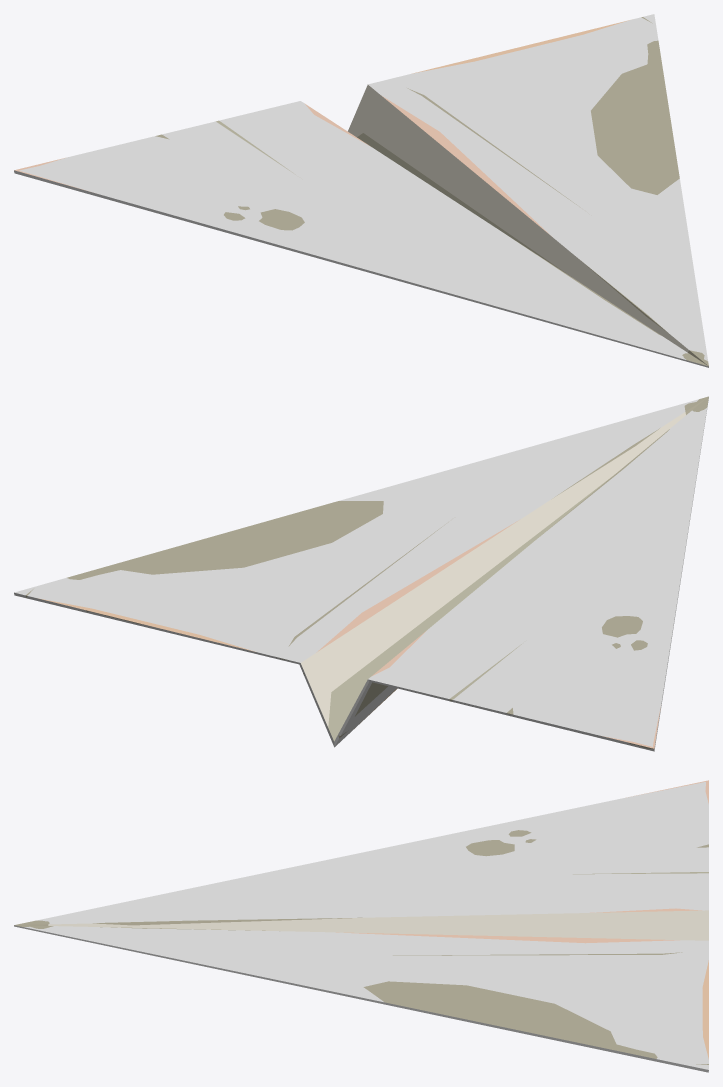
The model's file is paperPlane(0.0.1).glb.
3 views of the same model, one above another, from view 1: azimuth 30°, elevation 25°; view 2: azimuth 150°, elevation 25°; view 3: azimuth 270°, elevation 25° (orthographic). The views are drawn at different scales.
Parts seen in each view (by area): view 1: Plane; view 2: Plane; view 3: Plane.
Part boxes in pixels (<box>): Plane: <box>14,14,708,367</box>; Plane: <box>14,396,708,751</box>; Plane: <box>14,780,708,1072</box>.
Bounding box in the file's own units: 1.97 × 0.2268 × 2.
1 material, 1 textured.
